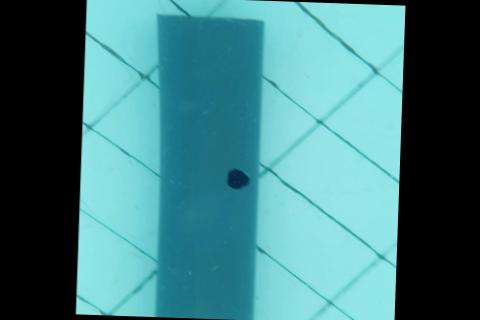kebocoran: (224, 167, 251, 192)
